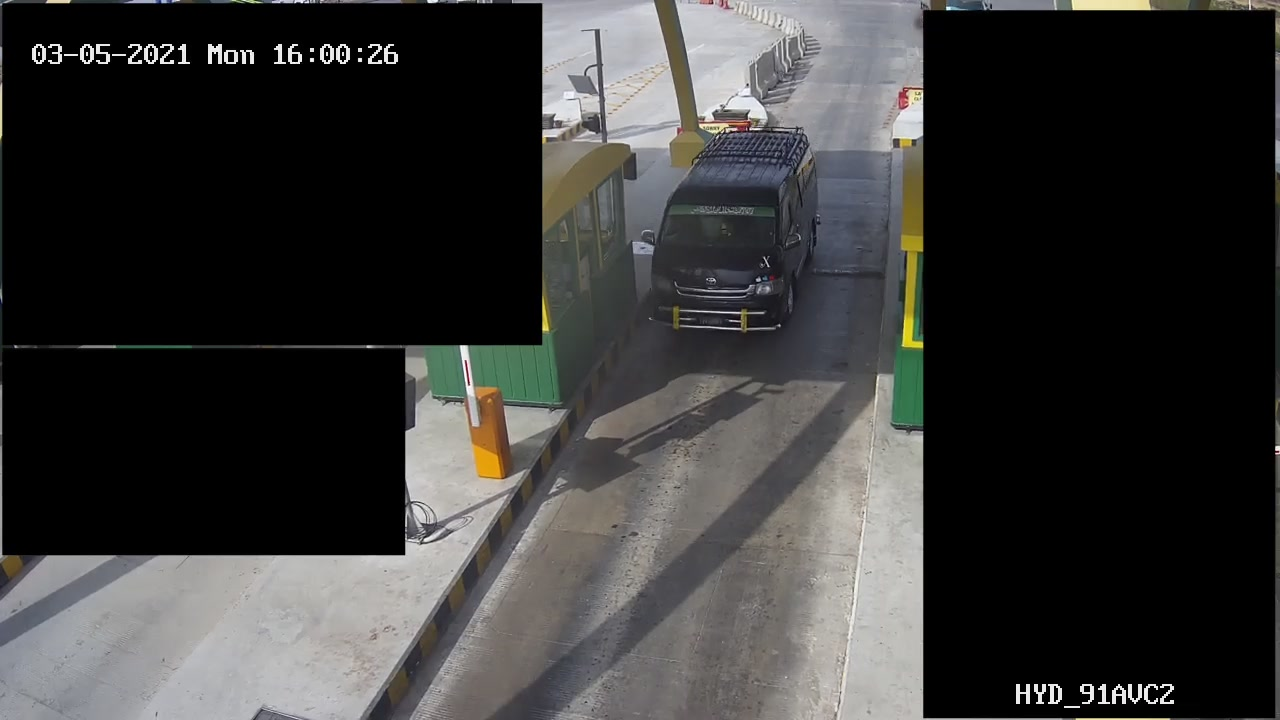F2: (641, 122, 833, 345)
